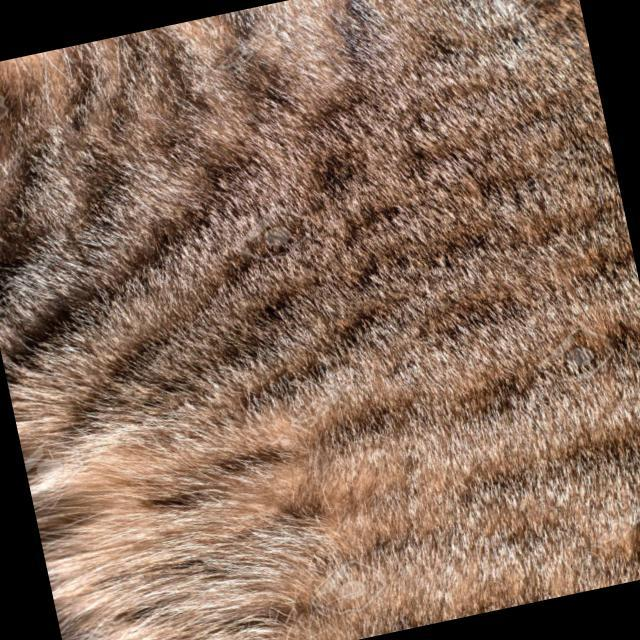Healthy skin: (102, 0, 632, 406), (53, 388, 409, 640), (402, 337, 640, 603)
